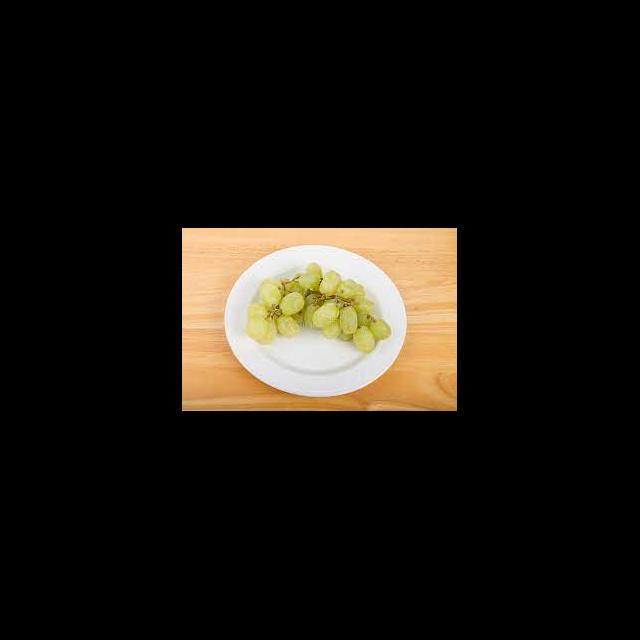grape: (246, 262, 392, 354)
